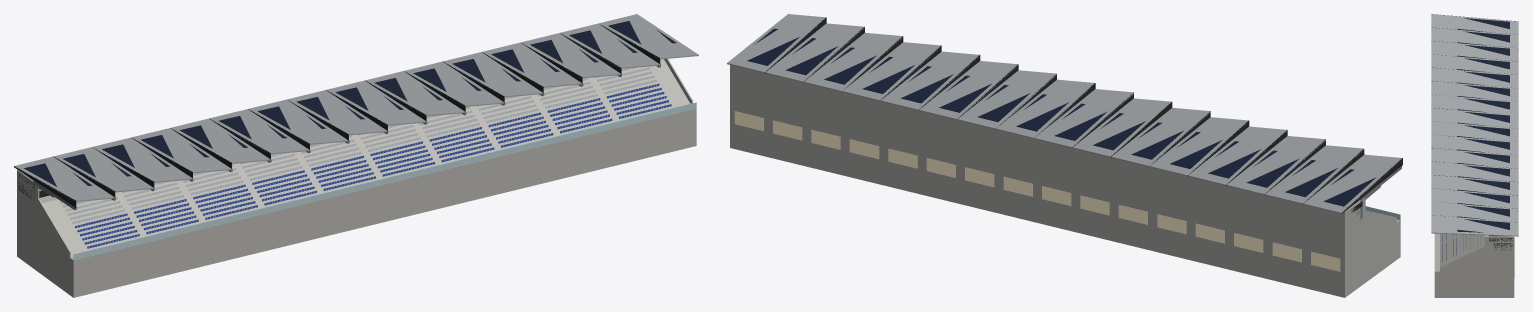
The model's file is rbr_sz_west_c.glb.
3 renders of one model, left to right at view 1: azimuth 30°, elevation 25°; view 2: azimuth 150°, elevation 25°; view 3: azimuth 270°, elevation 25°, orthographic. The views are drawn at different scales.
Visible parts, largest first — view 1: red-bull-ring-start-ziel-west; view 2: red-bull-ring-start-ziel-west; view 3: red-bull-ring-start-ziel-west.
Boxes of the visible parts, <box> form: red-bull-ring-start-ziel-west: <box>14,14,698,297</box>; red-bull-ring-start-ziel-west: <box>727,14,1402,297</box>; red-bull-ring-start-ziel-west: <box>1431,14,1518,297</box>.
Bounding box in the file's own units: 118 × 17.9 × 20.3.
